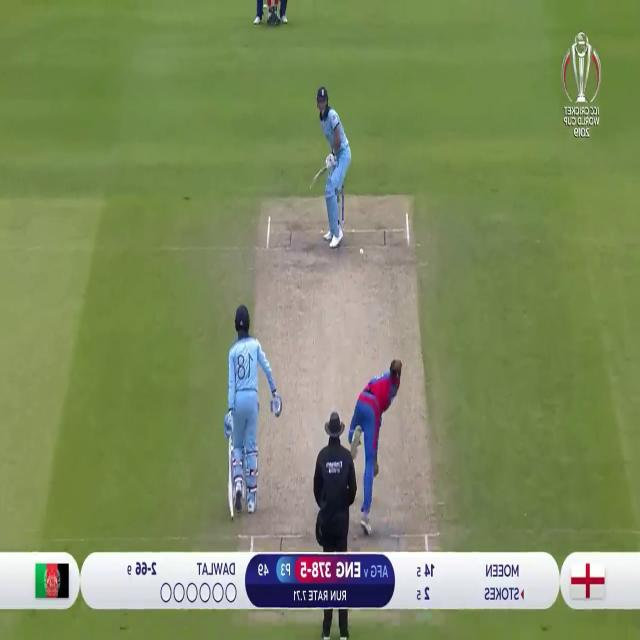ball: (359, 244, 365, 257)
